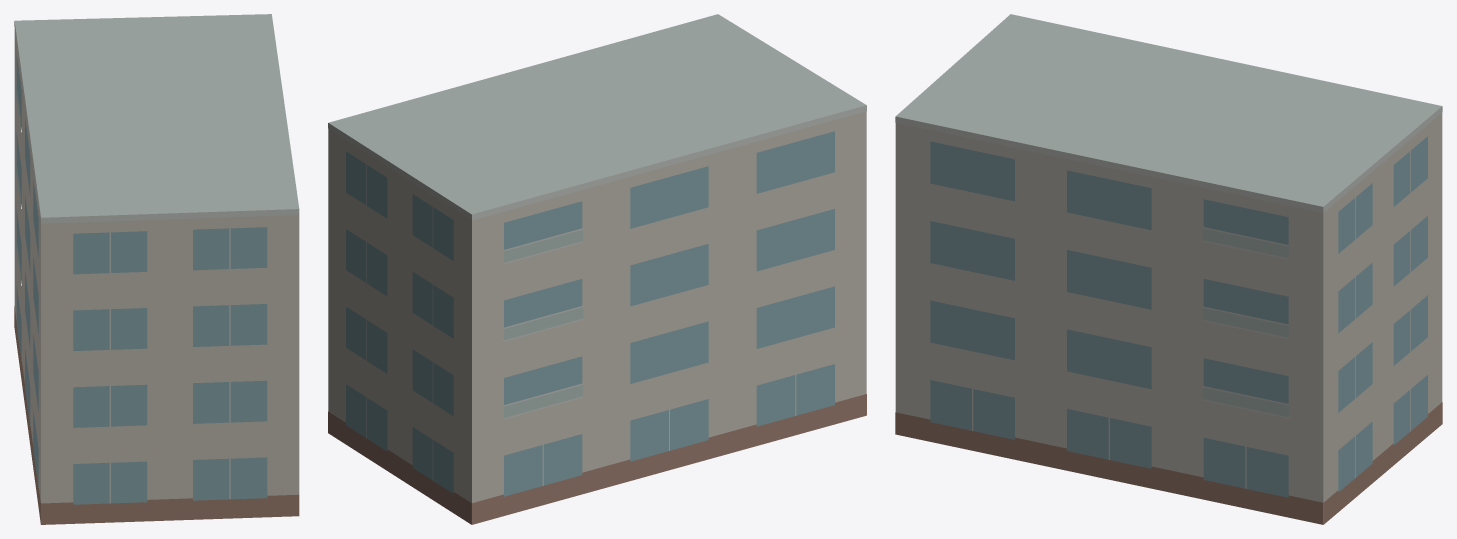
The model's file is survey-upis-32889419.glb.
3 views of the same model, side by side, from view 1: azimuth 30°, elevation 25°; view 2: azimuth 150°, elevation 25°; view 3: azimuth 270°, elevation 25° (orthographic). The views are drawn at different scales.
Parts seen in each view (by area): view 1: survey-upis-32889419.tmp; view 2: survey-upis-32889419.tmp; view 3: survey-upis-32889419.tmp.
Part boxes in pixels (x1=…): survey-upis-32889419.tmp: x1=14, y1=14, x2=299, y2=524; survey-upis-32889419.tmp: x1=328, y1=14, x2=866, y2=524; survey-upis-32889419.tmp: x1=895, y1=14, x2=1442, y2=524.
Bounding box in the file's own units: 16.27 × 12.5 × 19.5.
